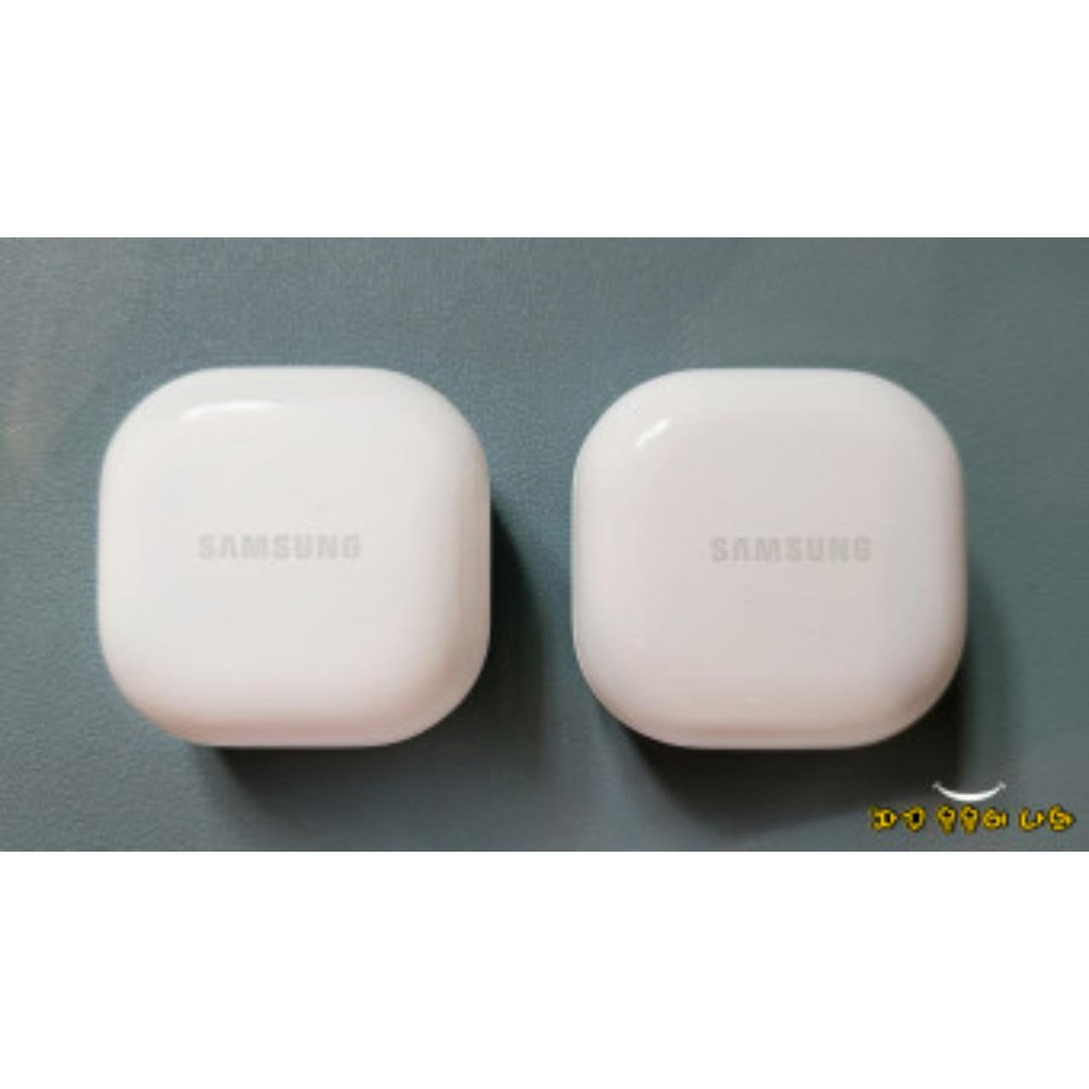Buds: (568, 363, 972, 758), (93, 363, 494, 757)
